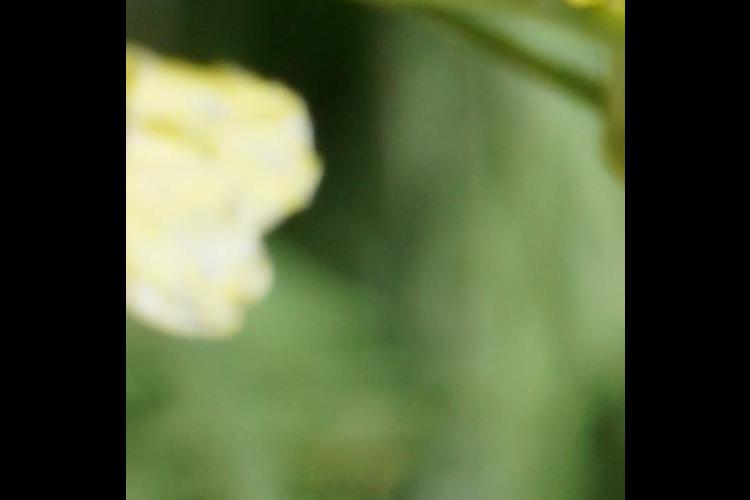white: (127, 24, 327, 367)
